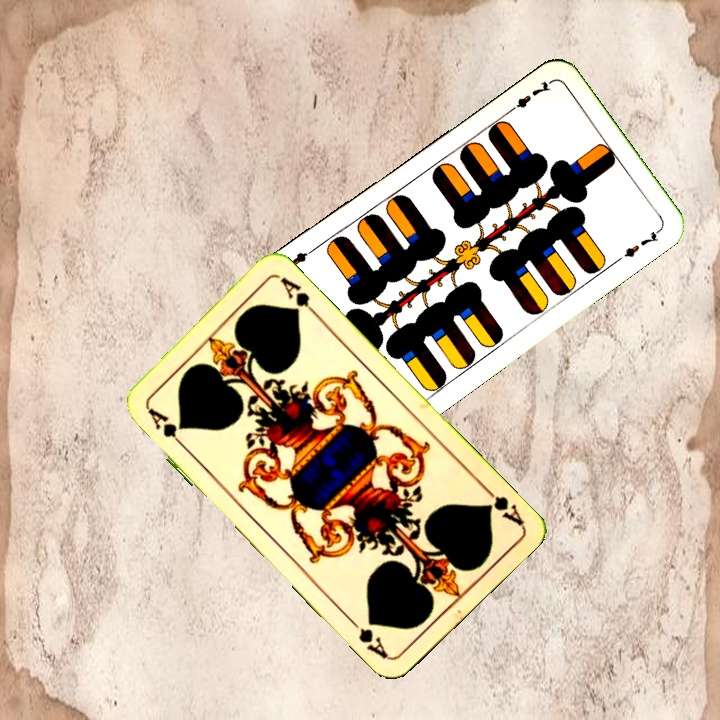E7: (503, 77, 554, 117)
GA: (478, 481, 526, 528), (142, 402, 188, 450)
